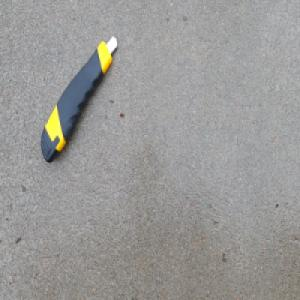Cutter: (40, 33, 119, 163)
